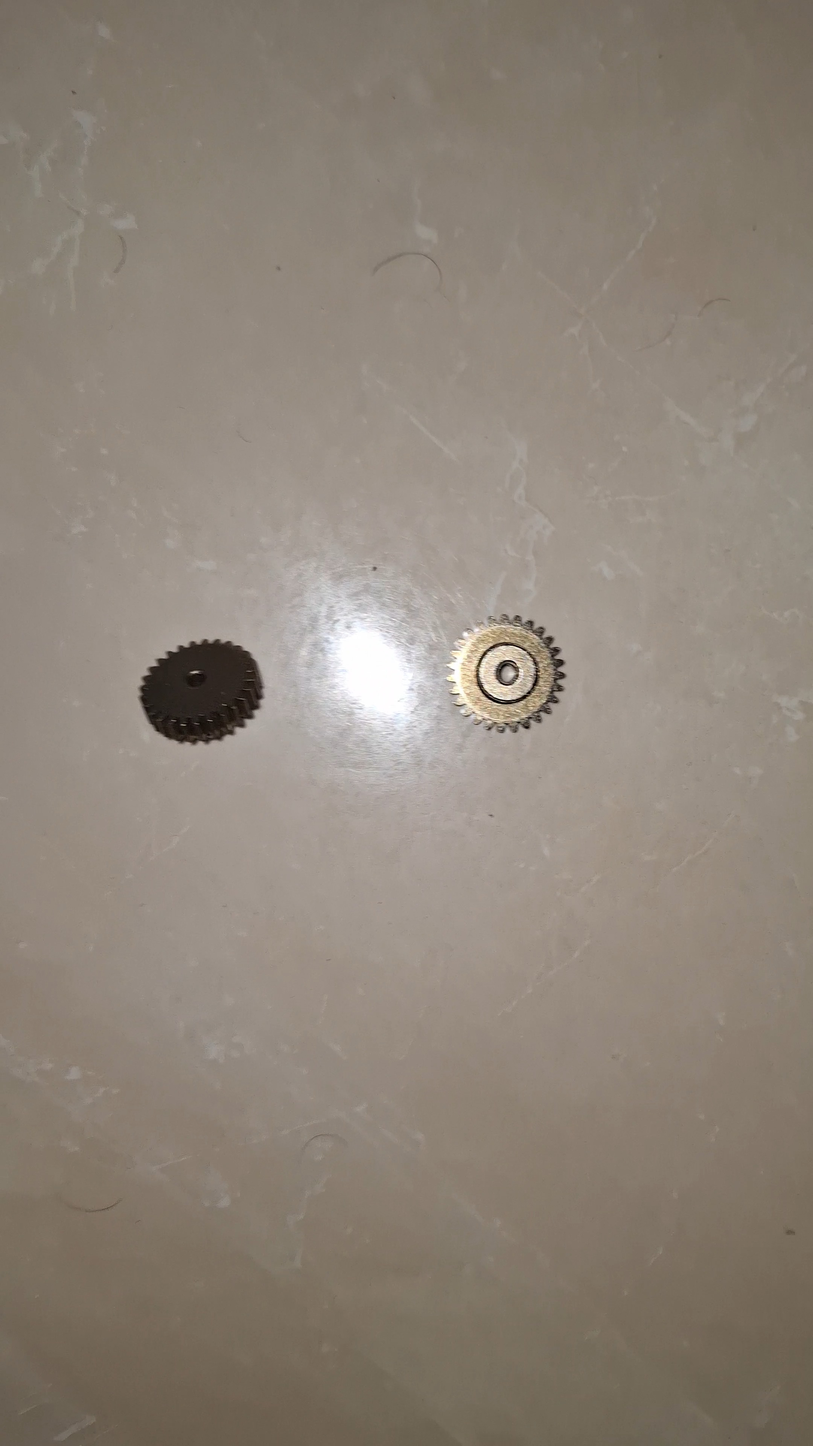spur gear: (449, 615, 565, 731), (140, 640, 262, 743)
